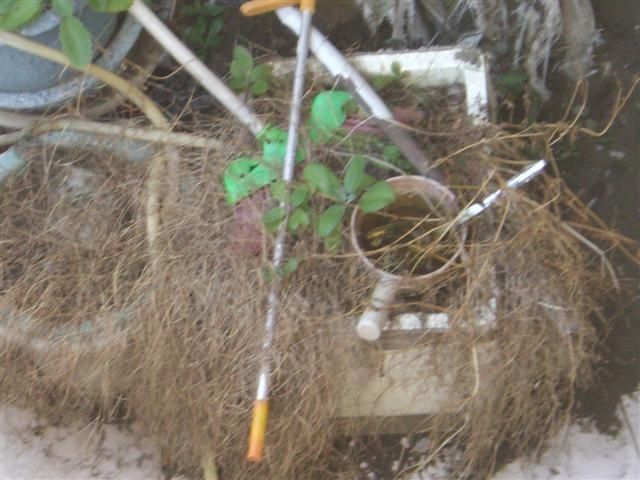bowl: (349, 174, 468, 294)
